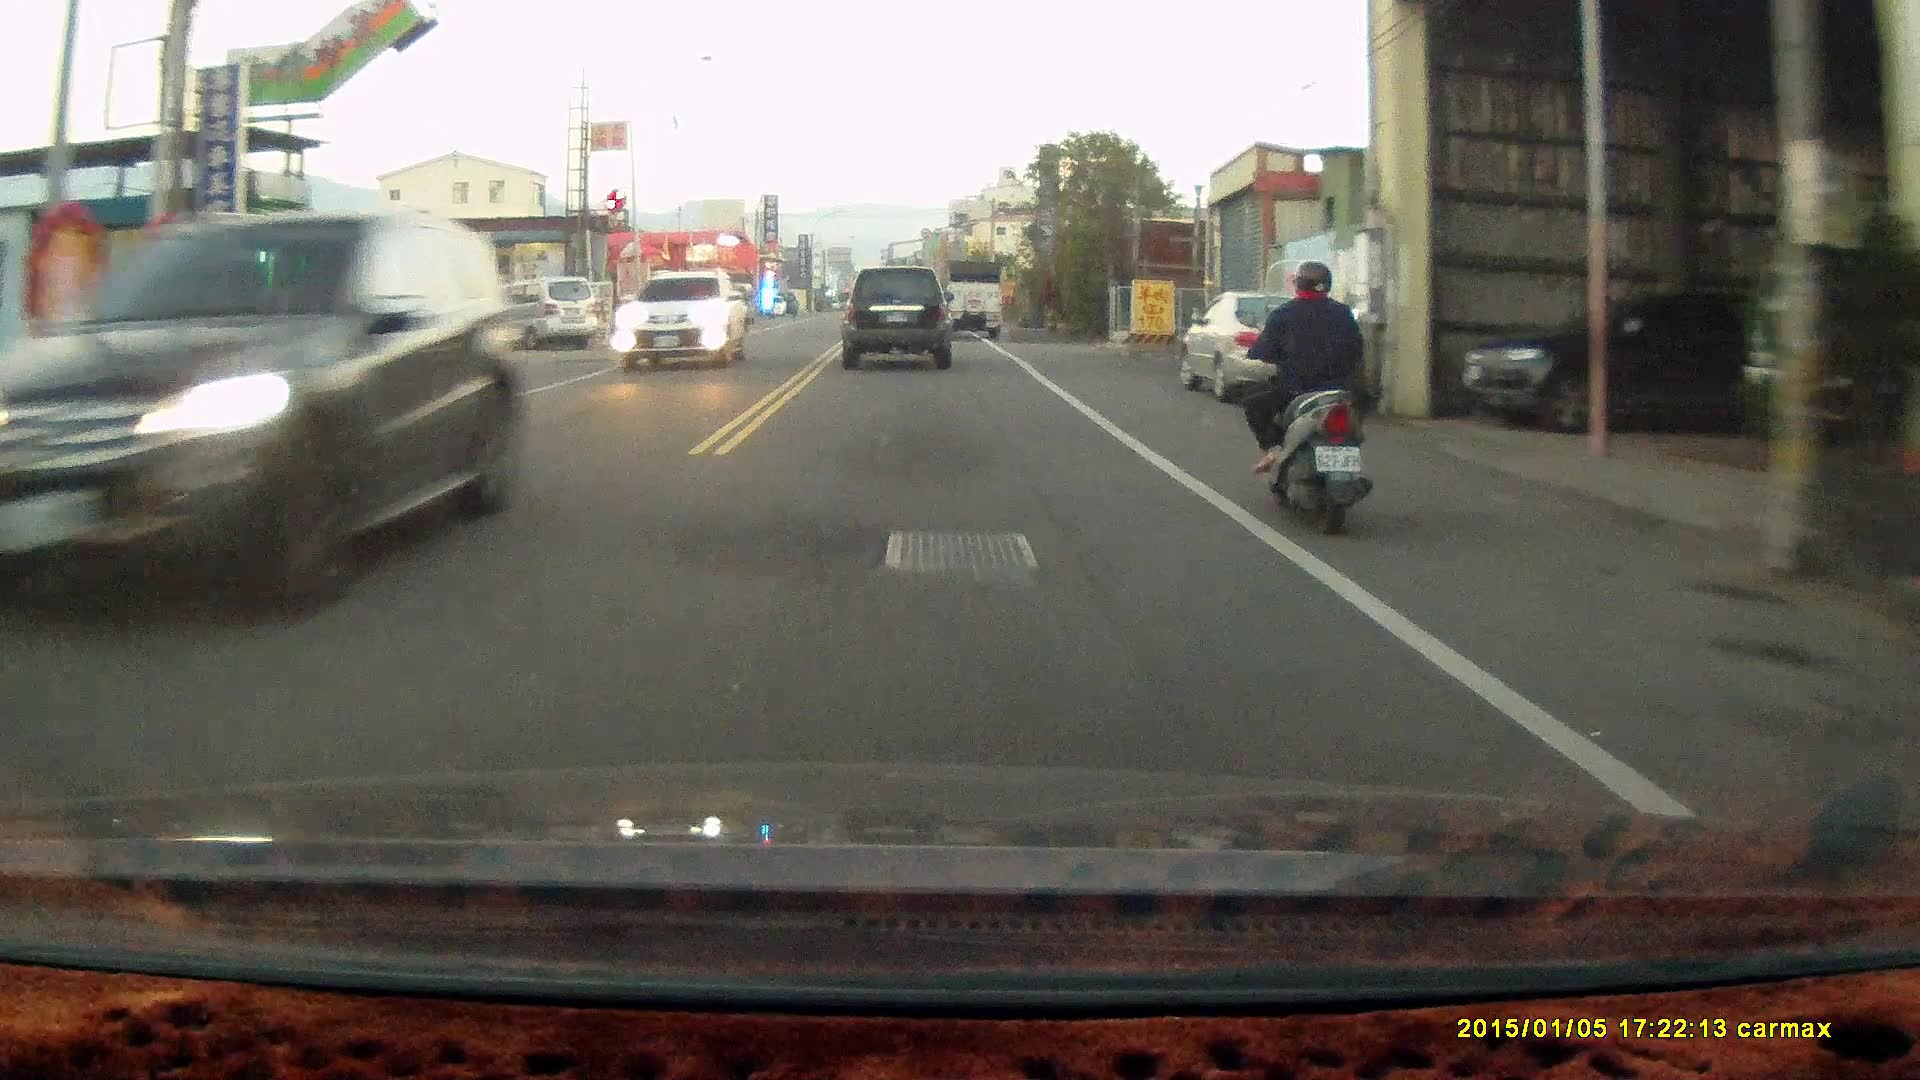rider: (1230, 257, 1372, 535)
vehicle: (12, 203, 516, 626), (1464, 294, 1780, 433), (1179, 280, 1364, 400), (611, 273, 752, 377), (842, 268, 960, 371), (490, 275, 596, 356), (936, 258, 1006, 339)
